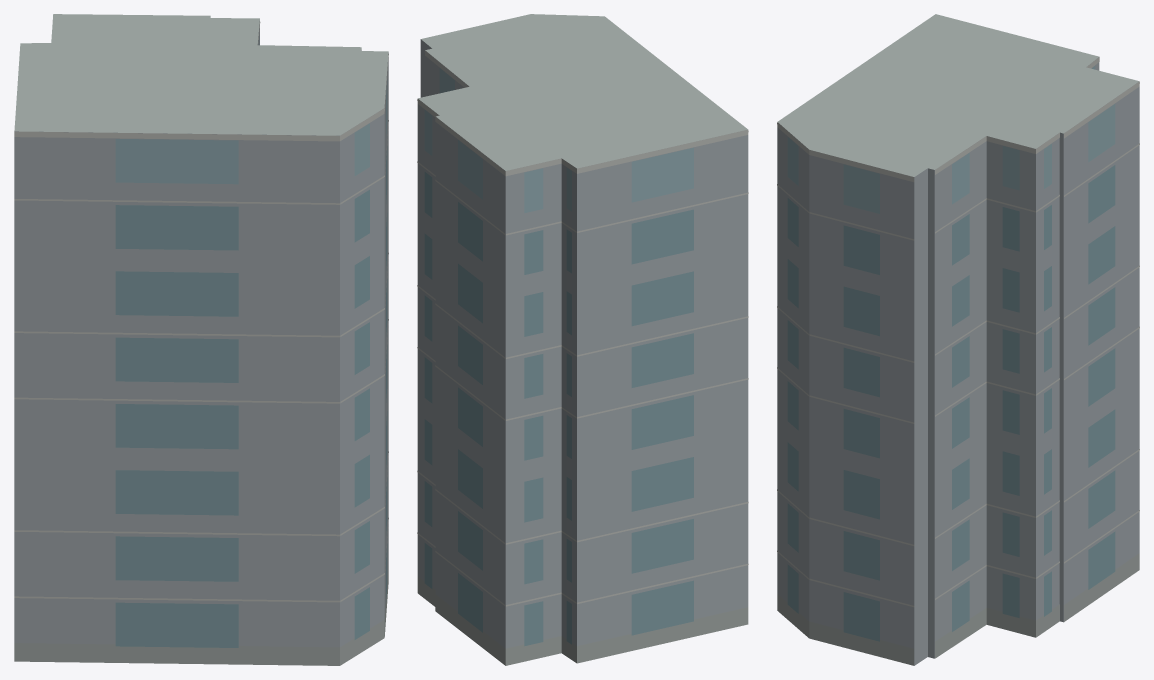
File: survey-upis-32582436.glb
3 renders of one model, left to right at view 1: azimuth 30°, elevation 25°; view 2: azimuth 150°, elevation 25°; view 3: azimuth 270°, elevation 25°, orthographic. The views are drawn at different scales.
Parts seen in each view (by area): view 1: survey-upis-32582436.tmp; view 2: survey-upis-32582436.tmp; view 3: survey-upis-32582436.tmp.
Boxes of the visible parts, bbox=[...] form: survey-upis-32582436.tmp: bbox=[14, 14, 388, 665]; survey-upis-32582436.tmp: bbox=[417, 14, 748, 665]; survey-upis-32582436.tmp: bbox=[777, 14, 1139, 665].
Bounding box in the file's own units: 16.34 × 22.8 × 15.34.
